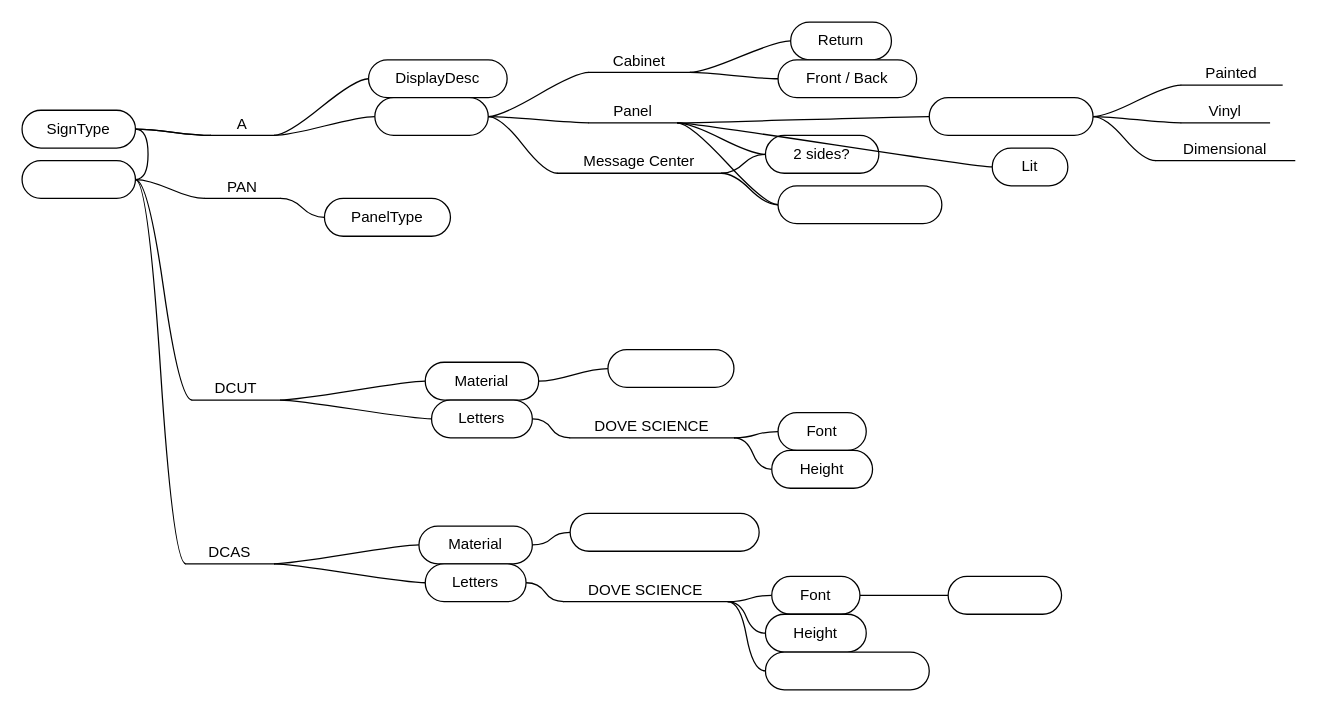
This 1317x712 diagram has some shape labels left out. The centre of each missing label's shape, as x and y in pixels:
"Custom Thickness?" belongs at pixel 664 531.
"Custom?" belongs at pixel 1004 594.
"Design method" belongs at pixel 1010 115.
"Same unit or 2?" belongs at pixel 859 204.
"SignCat" belongs at pixel 78 178.
"SignPart" belongs at pixel 431 115.
"Thickness" belongs at pixel 670 367.
"Total Sign Width" belongs at pixel 846 670.
